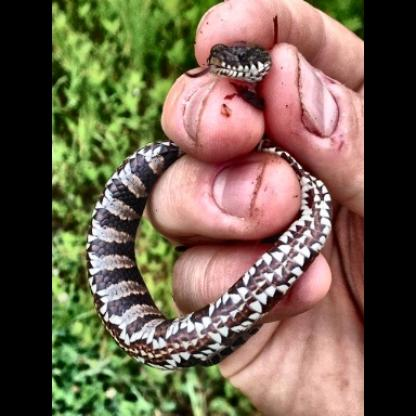Snake: (83, 171, 181, 371), (198, 36, 280, 88)
